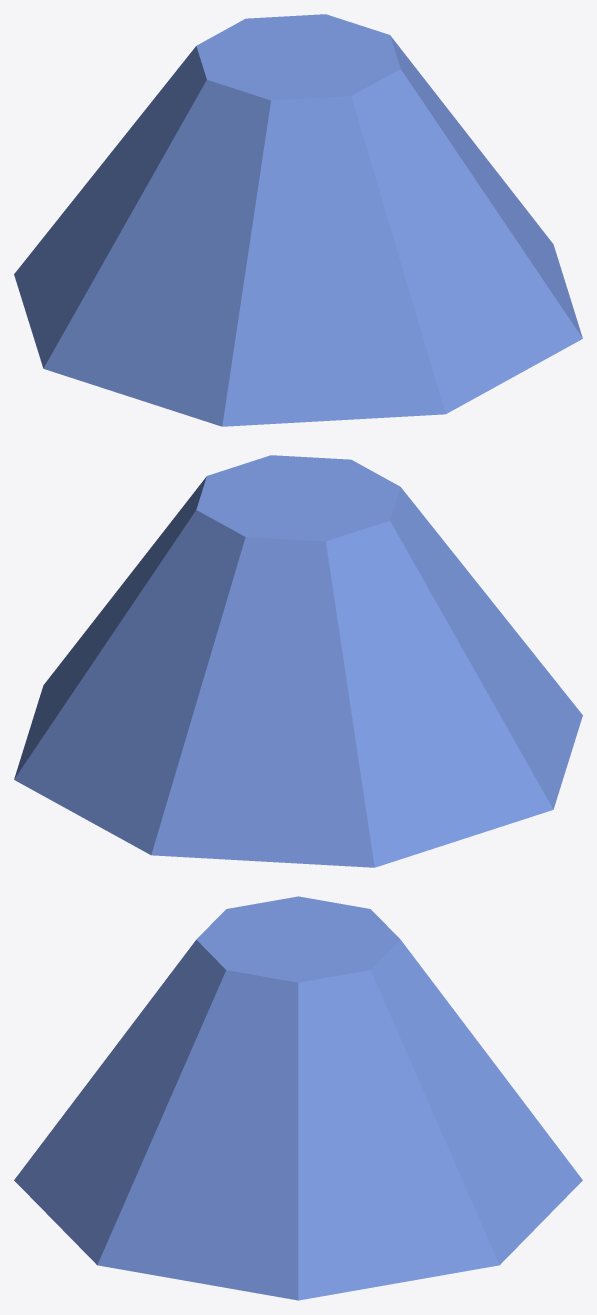
Rendered from lamptop.glb.
The picture shows the model from 3 angles, top to bottom: view 1: azimuth 30°, elevation 25°; view 2: azimuth 150°, elevation 25°; view 3: azimuth 270°, elevation 25°; orthographic projection. The views are drawn at different scales.
Parts seen in each view (by area): view 1: LampTop; view 2: LampTop; view 3: LampTop.
Part boxes in pixels (x1,y1,x2,y2): LampTop: [14, 14, 582, 426]; LampTop: [14, 455, 582, 867]; LampTop: [14, 896, 582, 1300].
Bounding box in the file's own units: 0.1351 × 0.0631 × 0.1351.
